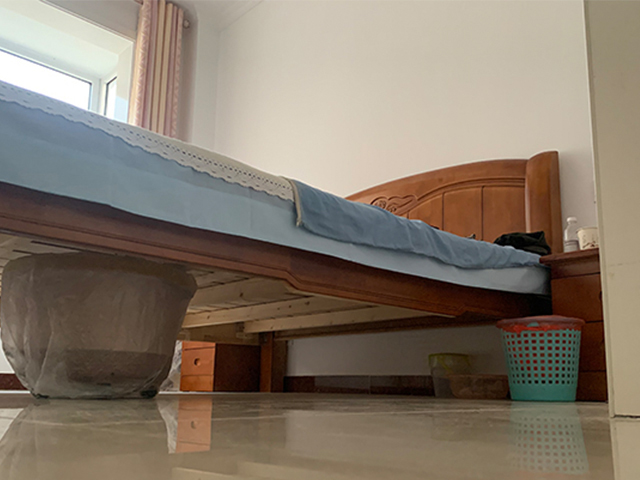bed: (1, 78, 562, 393)
cabinet: (538, 246, 608, 403), (179, 340, 260, 394)
trashcan: (496, 315, 584, 404)
